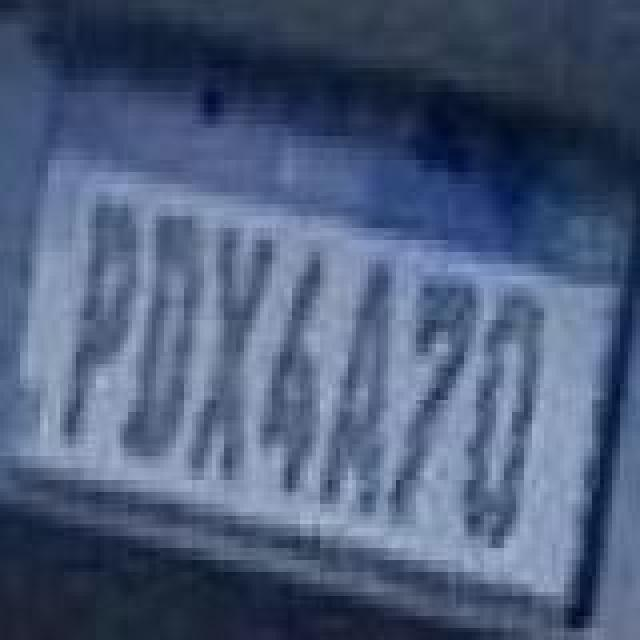4: (262, 242, 330, 494)
7: (384, 274, 480, 518)
A: (316, 256, 396, 520)
D: (458, 286, 550, 554), (120, 210, 208, 462)
P: (52, 200, 140, 448)
X: (180, 220, 276, 484)
